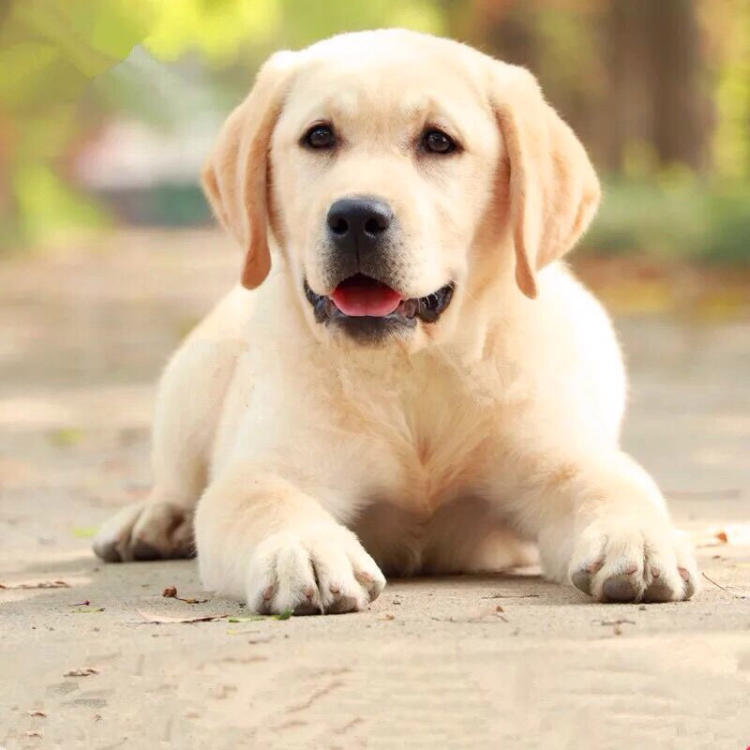dog: (90, 23, 699, 615)
